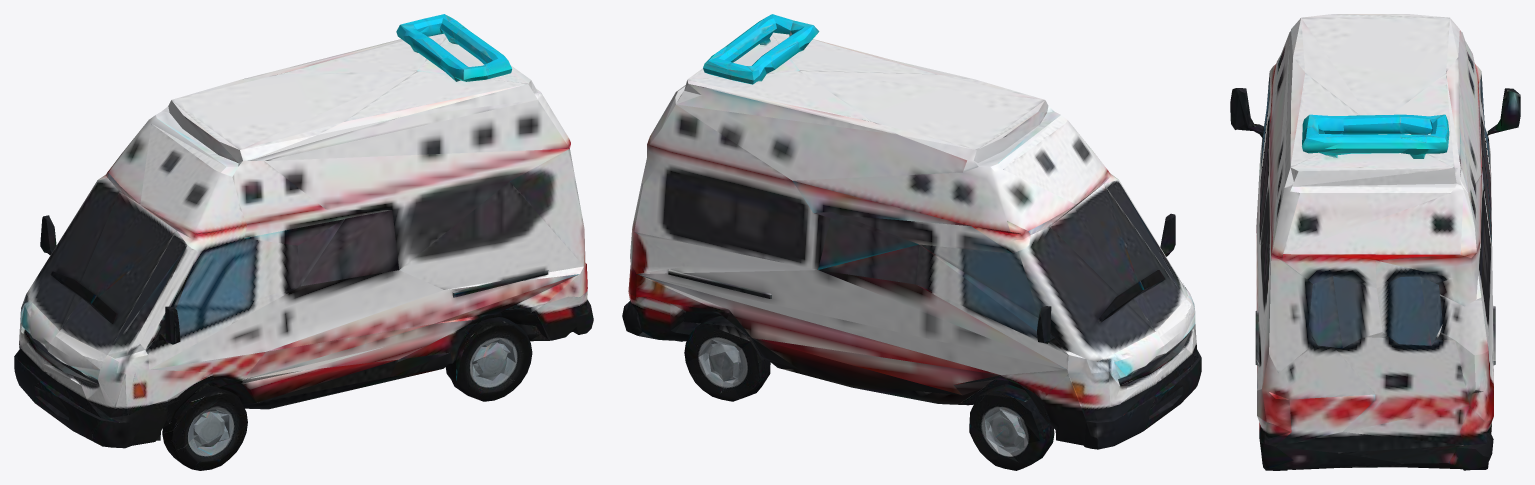
The model's file is veh_ambulance.glb.
The picture shows the model from 3 angles, left to right: view 1: azimuth 30°, elevation 25°; view 2: azimuth 150°, elevation 25°; view 3: azimuth 270°, elevation 25°; orthographic projection. The views are drawn at different scales.
Visible parts, largest first — view 1: output_unwrapped; view 2: output_unwrapped; view 3: output_unwrapped.
Boxes of the visible parts, x1=… form: output_unwrapped: x1=14, y1=14, x2=593, y2=470; output_unwrapped: x1=622, y1=14, x2=1201, y2=470; output_unwrapped: x1=1230, y1=14, x2=1520, y2=470.
Bounding box in the file's own units: 0.9511 × 0.583 × 0.4407.
Materials: 1 (1 with a texture image).
